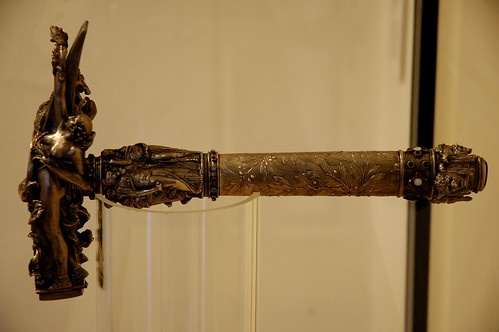hammer: (22, 24, 487, 300)
